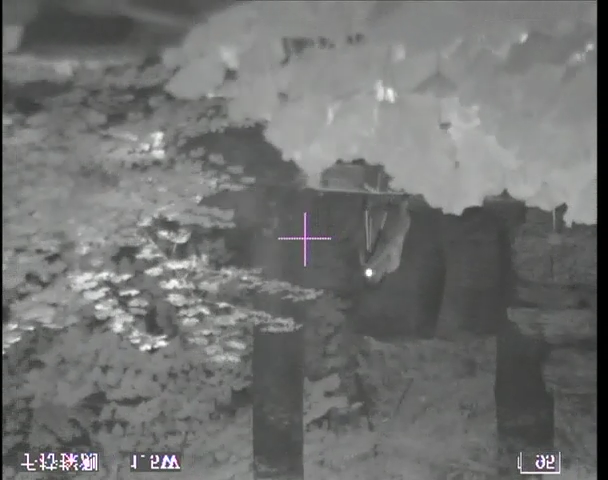my: (364, 267, 374, 278)
